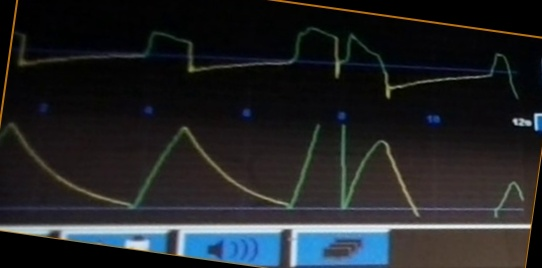Double_Triggering Flow: (16, 23, 436, 101)
Double_Triggering Volume: (2, 120, 421, 221)
